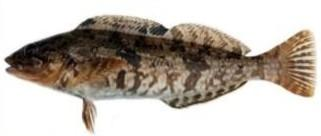fish: (5, 15, 315, 132)
